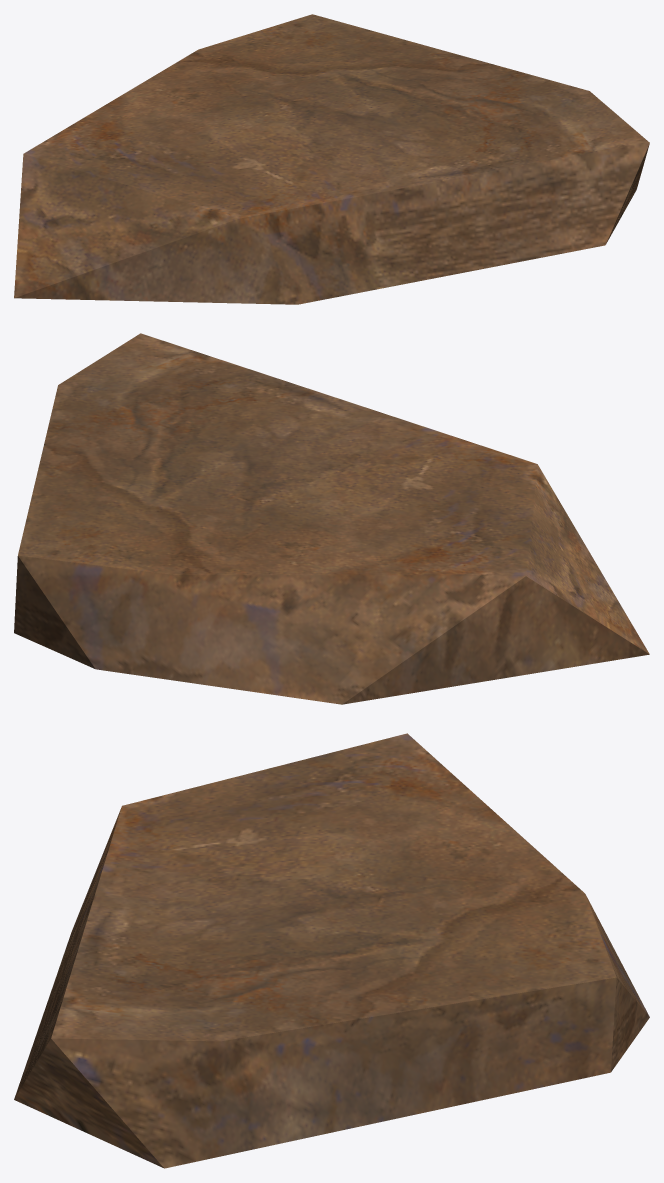
Rendered from Rock_Shales_08_L2.fbx.
The picture shows the model from 3 angles, top to bottom: view 1: azimuth 30°, elevation 25°; view 2: azimuth 150°, elevation 25°; view 3: azimuth 270°, elevation 25°; orthographic projection. The views are drawn at different scales.
Parts seen in each view (by area): view 1: polySurface246; view 2: polySurface246; view 3: polySurface246.
Part boxes in pixels (x1,y1,x2,y2): polySurface246: (14, 14, 649, 304); polySurface246: (14, 333, 649, 704); polySurface246: (14, 733, 649, 1168).
Bounding box in the file's own units: 99.52 × 15.26 × 75.1.
